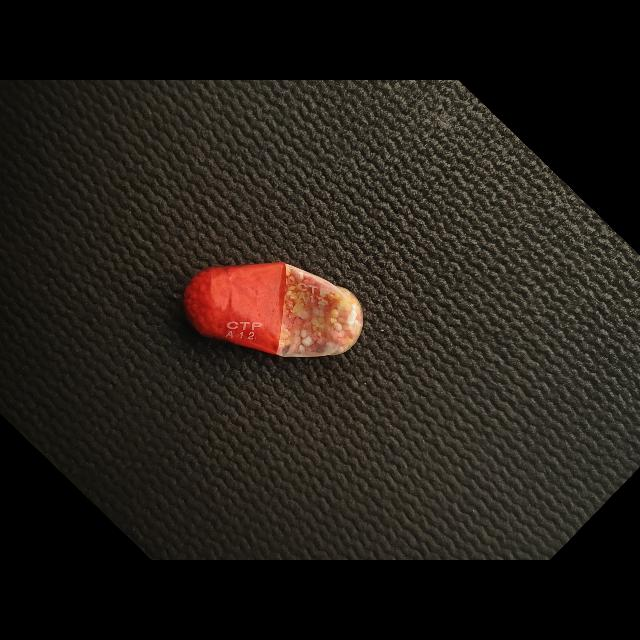Defective Capsule: (184, 262, 363, 358)
